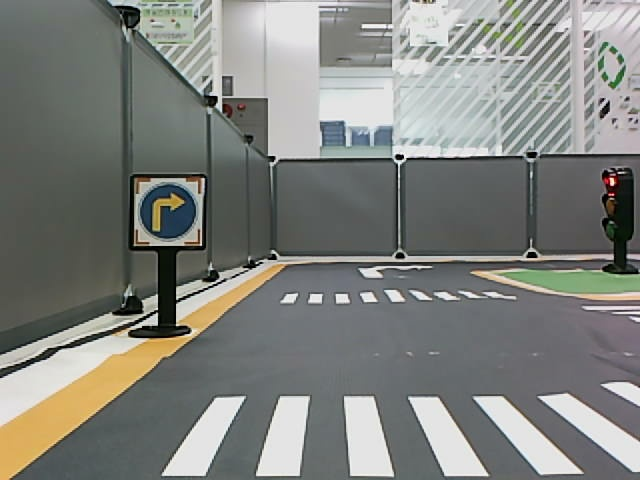crosswalk: (158, 393, 640, 480), (277, 290, 520, 305)
right: (139, 184, 199, 242)
